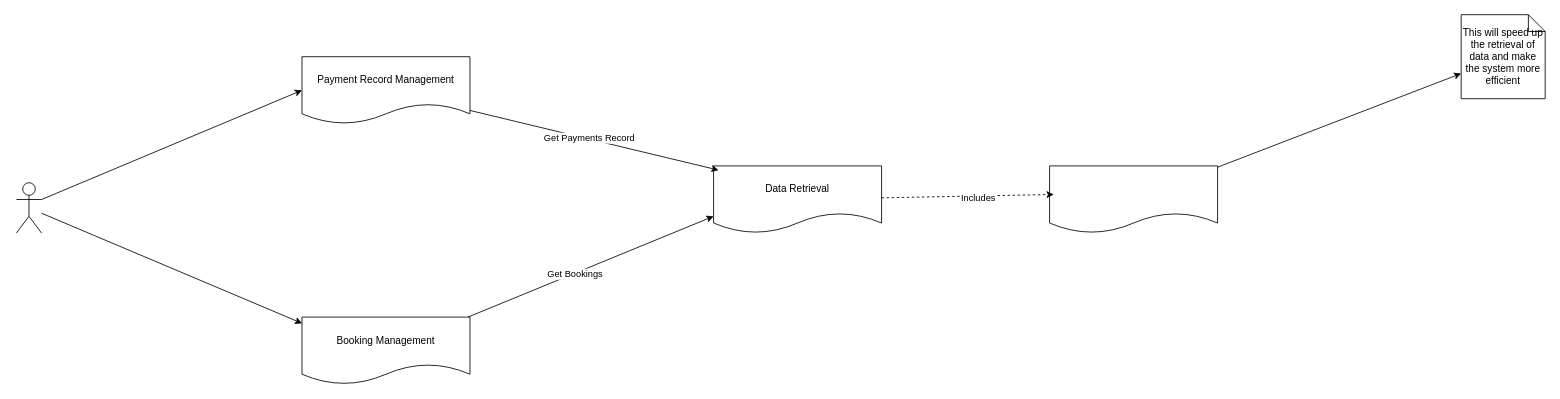
The diagram is 1560 pixels wide and 399 high, and some of its shapes have lost their labels. Each missing label, with the centre of its shape:
"Admin" goes at (29,207).
"Database Indexing" goes at (1133,199).
